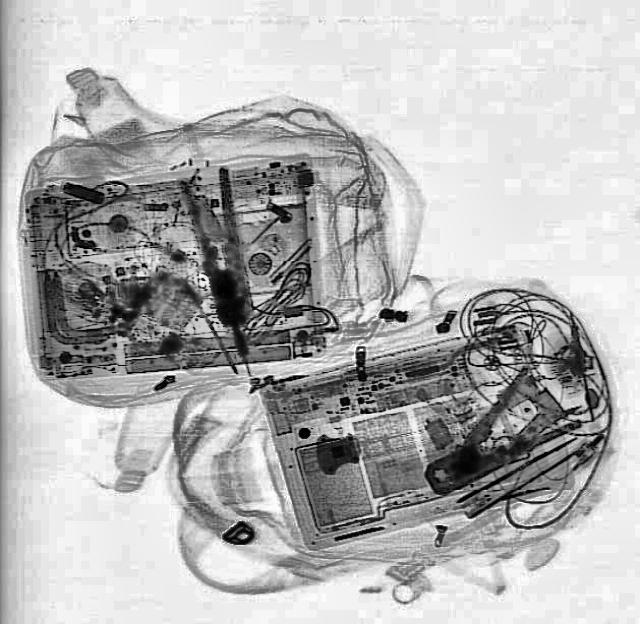Pliers: (400, 361, 586, 513)
